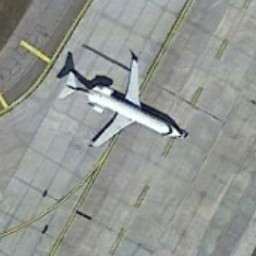Airplane: (53, 43, 198, 157)
